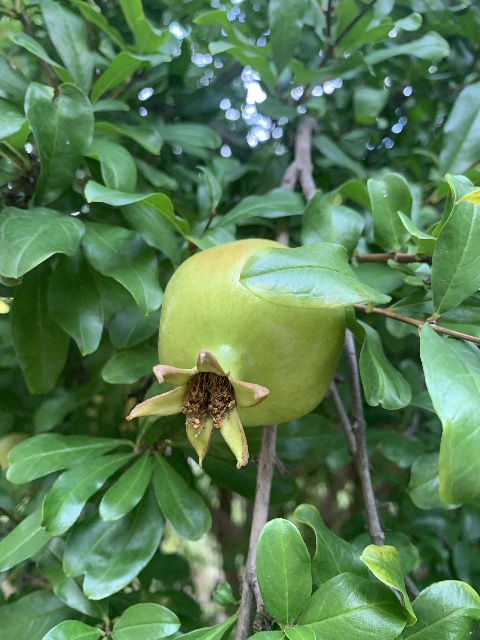mid-growth: (128, 238, 348, 471)
